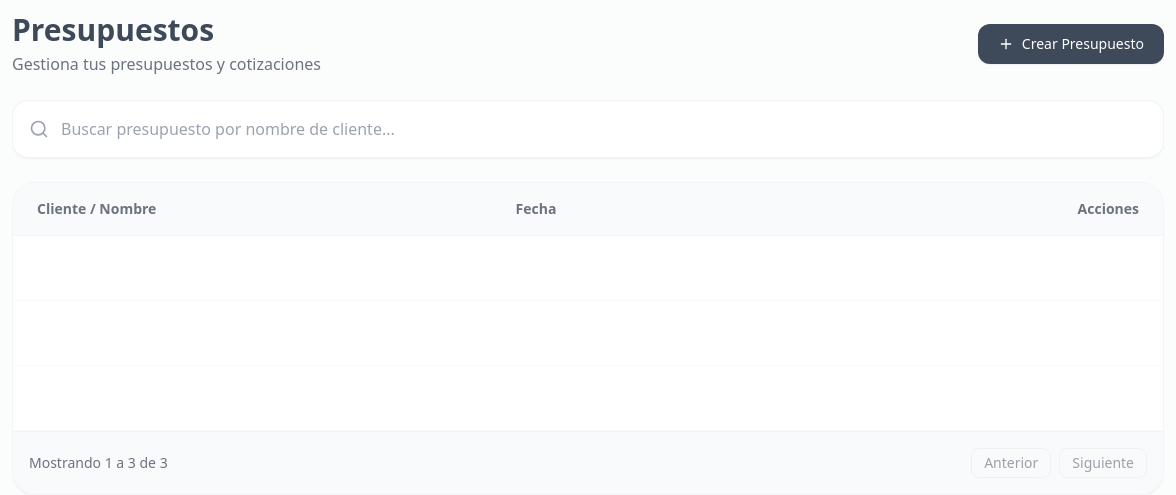
Test: BudgetList › renders budgets and handles search
Type "Alpha" into the field with placeholder "Buscar presupuesto por nombre de cliente..." at [604, 129], box [61, 117, 1147, 141]
Wait 300 ms
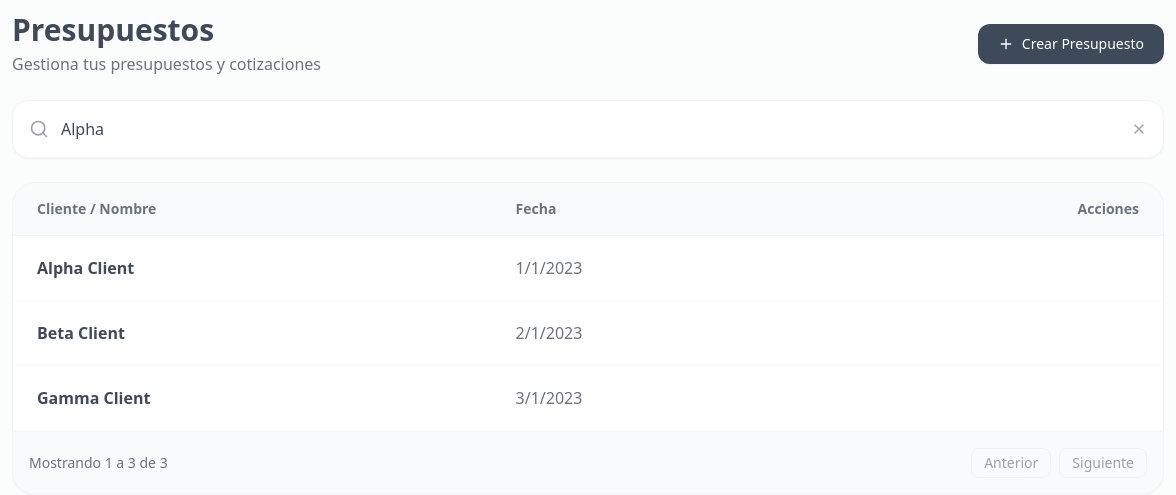
expect the text "Alpha Client" is shown: met, box [37, 257, 134, 279]
